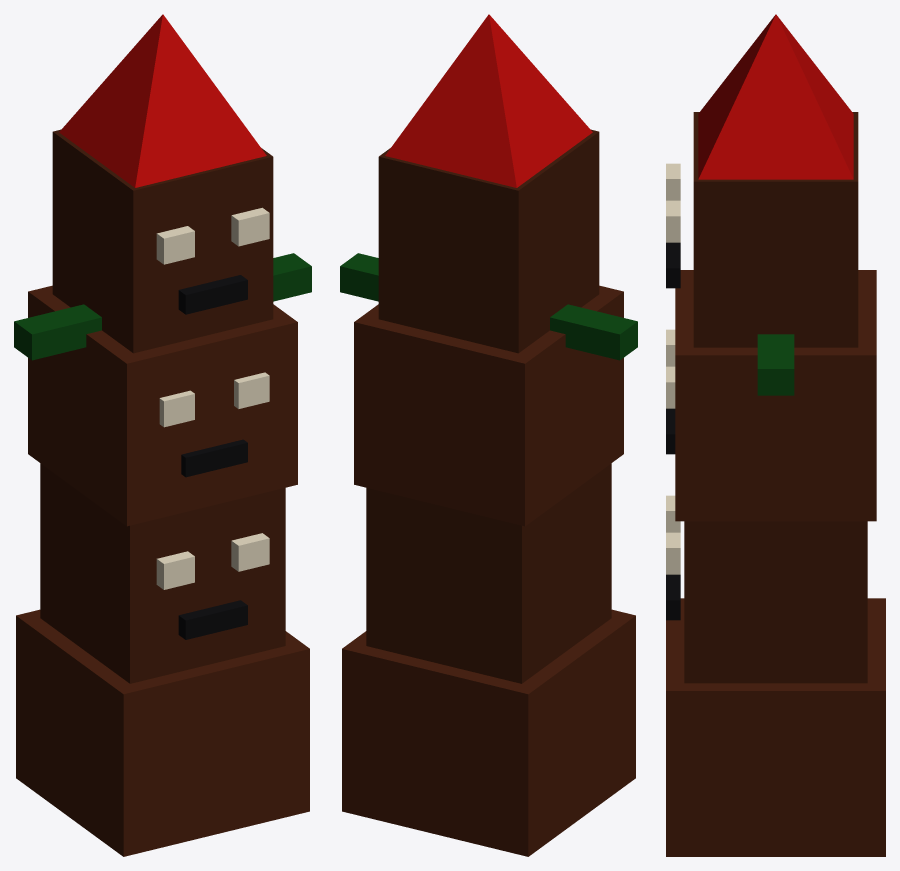
File: tiki_totem.obj
The picture shows the model from 3 angles, left to right: view 1: azimuth 30°, elevation 25°; view 2: azimuth 150°, elevation 25°; view 3: azimuth 270°, elevation 25°; orthographic projection. The views are drawn at different scales.
Parts seen in each view (by area): view 1: tiki_totem; view 2: tiki_totem; view 3: tiki_totem.
Boxes of the visible parts, box(x1,y1,x2,y2) form: tiki_totem: box(14, 14, 311, 856); tiki_totem: box(340, 14, 637, 856); tiki_totem: box(666, 14, 885, 856).
Size of the model in its own units: 0.9 by 2.4 by 0.6.
